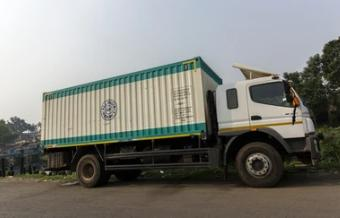vehicle: (41, 56, 321, 188)
